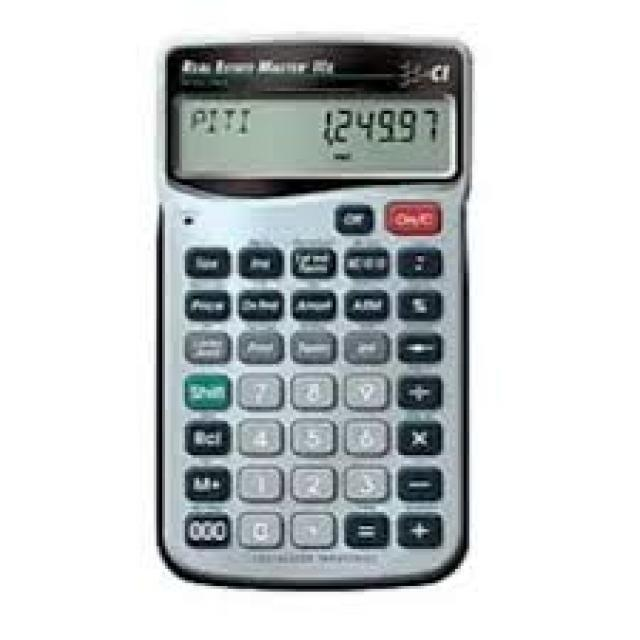Calculator: (150, 28, 476, 594)
